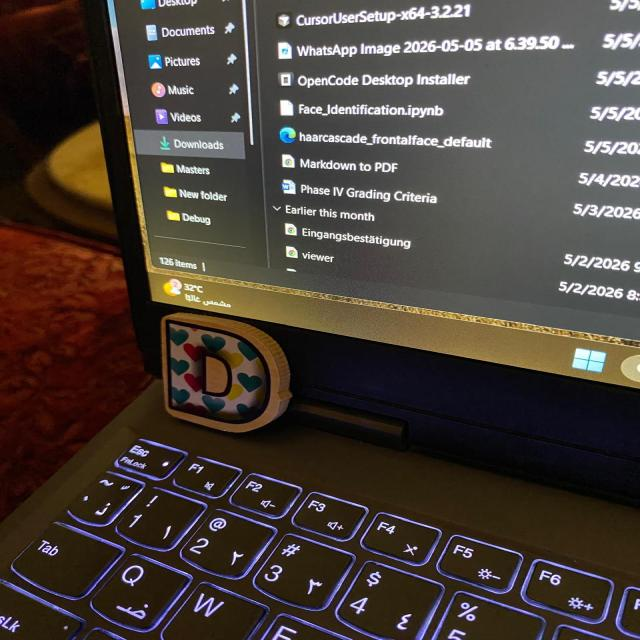D: (161, 313, 291, 432)
